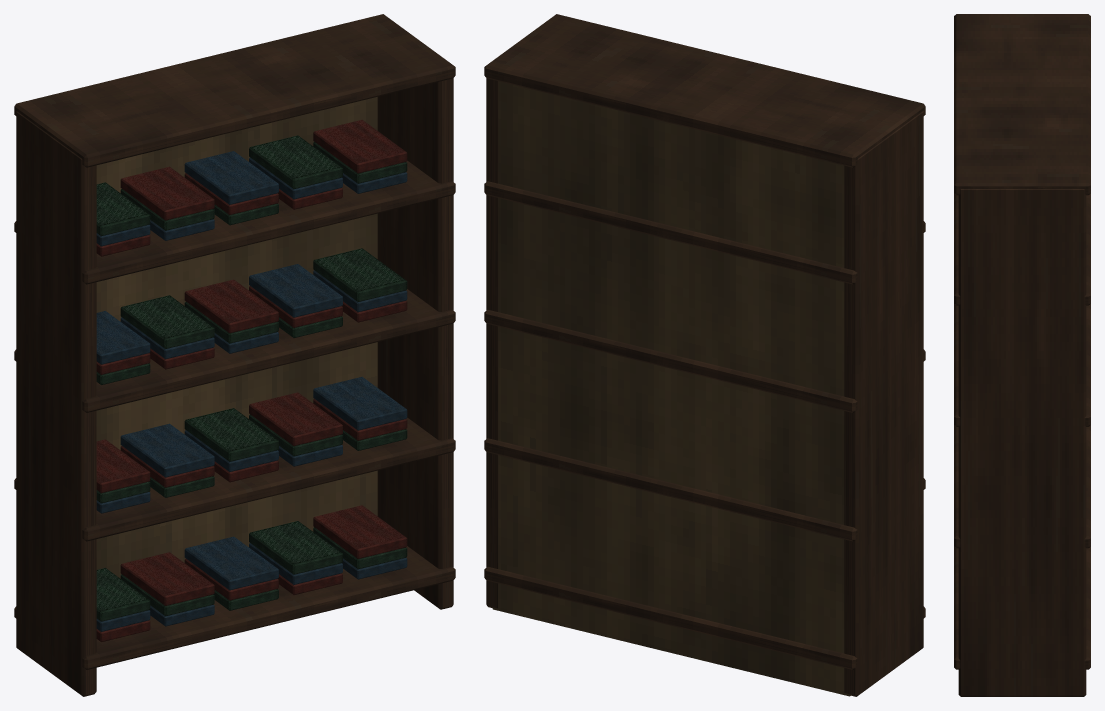
File: level_lived_shelf_worn.glb
3 renders of one model, left to right at view 1: azimuth 30°, elevation 25°; view 2: azimuth 150°, elevation 25°; view 3: azimuth 270°, elevation 25°, orthographic. The views are drawn at different scales.
Parts seen in each view (by area): view 1: level_lived_shelf_worn; view 2: level_lived_shelf_worn; view 3: level_lived_shelf_worn.
Boxes of the visible parts, x1,y1,x2,y2 form: level_lived_shelf_worn: (14,14,455,696); level_lived_shelf_worn: (484,14,925,696); level_lived_shelf_worn: (954,14,1090,696).
Size of the model in its own units: 1.33 by 1.86 by 0.45.
6 materials, 6 textured.
